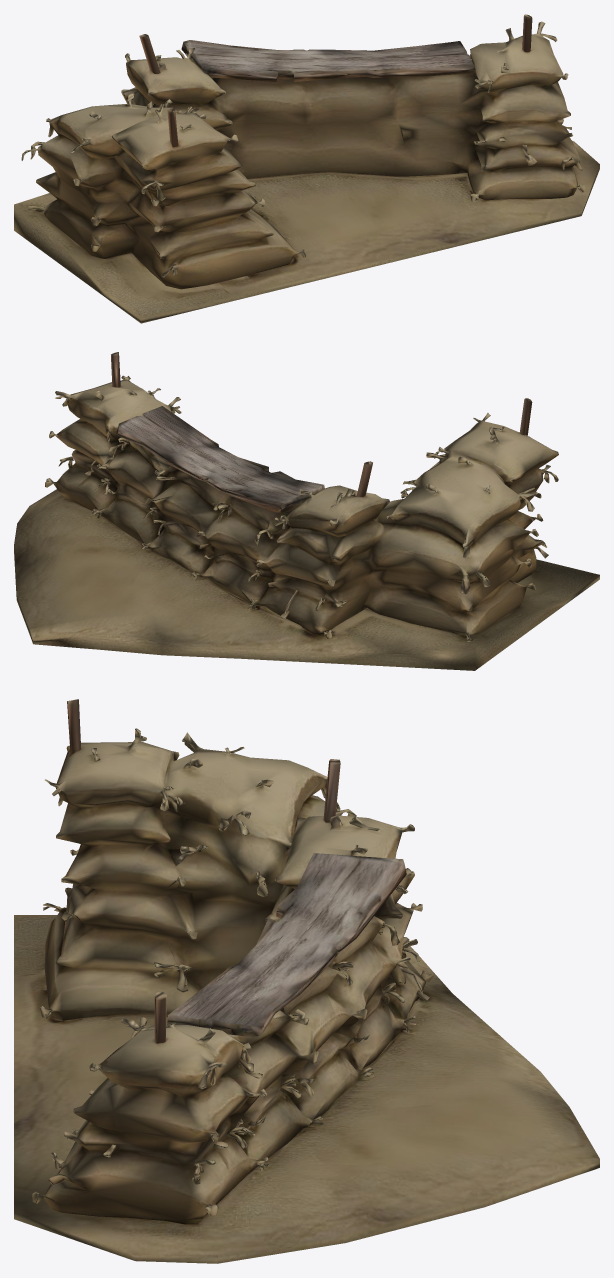
Rendered from sandbag_cover.glb.
3 renders of one model, top to bottom at view 1: azimuth 30°, elevation 25°; view 2: azimuth 150°, elevation 25°; view 3: azimuth 270°, elevation 25°, orthographic. The views are drawn at different scales.
Parts seen in each view (by area): view 1: tripo_node_a12df321-cc62-4cc4-ac1f-e4ad19167e5b; view 2: tripo_node_a12df321-cc62-4cc4-ac1f-e4ad19167e5b; view 3: tripo_node_a12df321-cc62-4cc4-ac1f-e4ad19167e5b.
Boxes of the visible parts, <box> form: tripo_node_a12df321-cc62-4cc4-ac1f-e4ad19167e5b: <box>14,14,599,323</box>; tripo_node_a12df321-cc62-4cc4-ac1f-e4ad19167e5b: <box>14,352,599,670</box>; tripo_node_a12df321-cc62-4cc4-ac1f-e4ad19167e5b: <box>14,699,599,1263</box>.
Size of the model in its own units: 2.15 by 0.75 by 1.54.
Materials: 1 (1 with a texture image).
